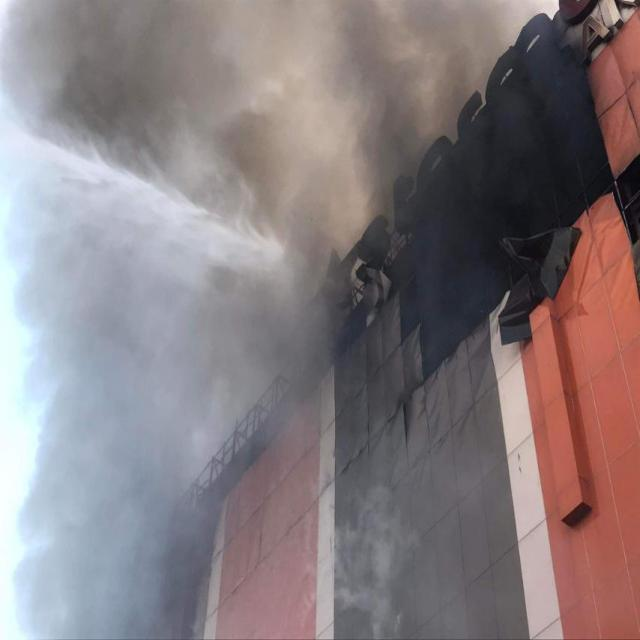Smoke: (0, 194, 209, 636), (21, 0, 436, 194)
